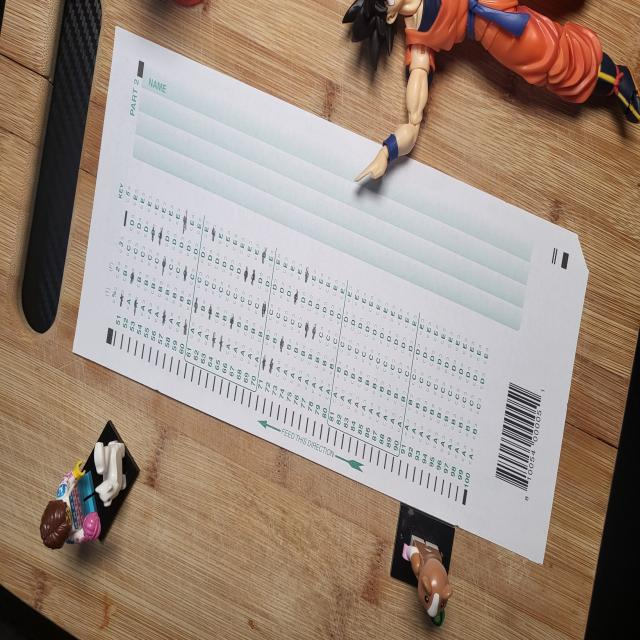scantron_back: (71, 23, 590, 567)
